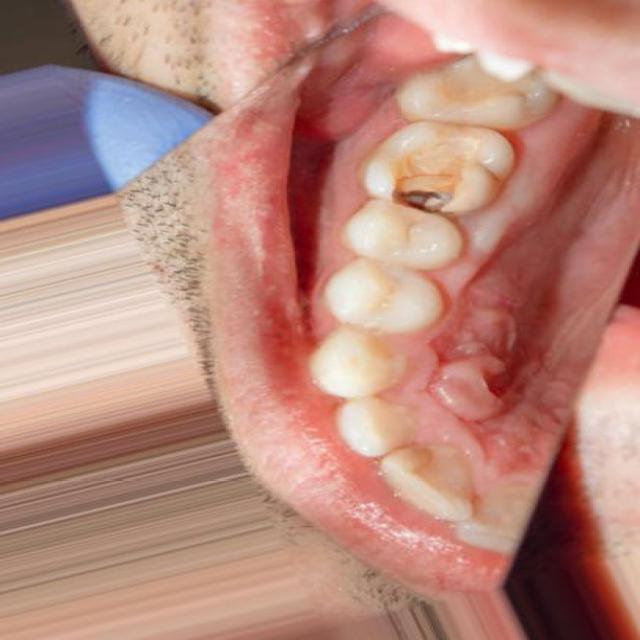caries: (370, 137, 500, 226)
